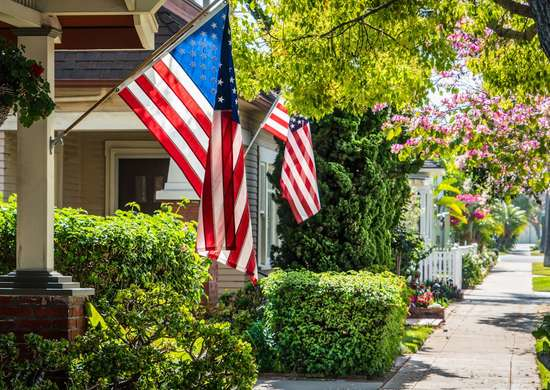America flag: (117, 4, 260, 288), (263, 81, 333, 226)
